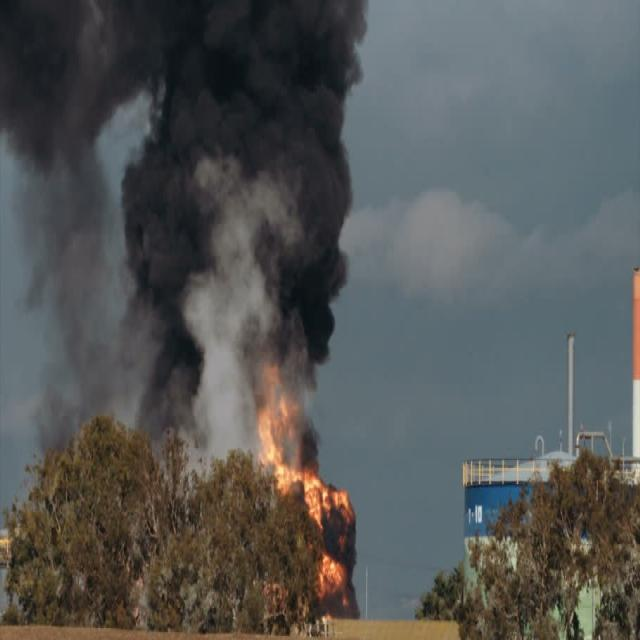Fire: (256, 394, 347, 530), (309, 542, 352, 616)
Smoke: (0, 0, 383, 481)
